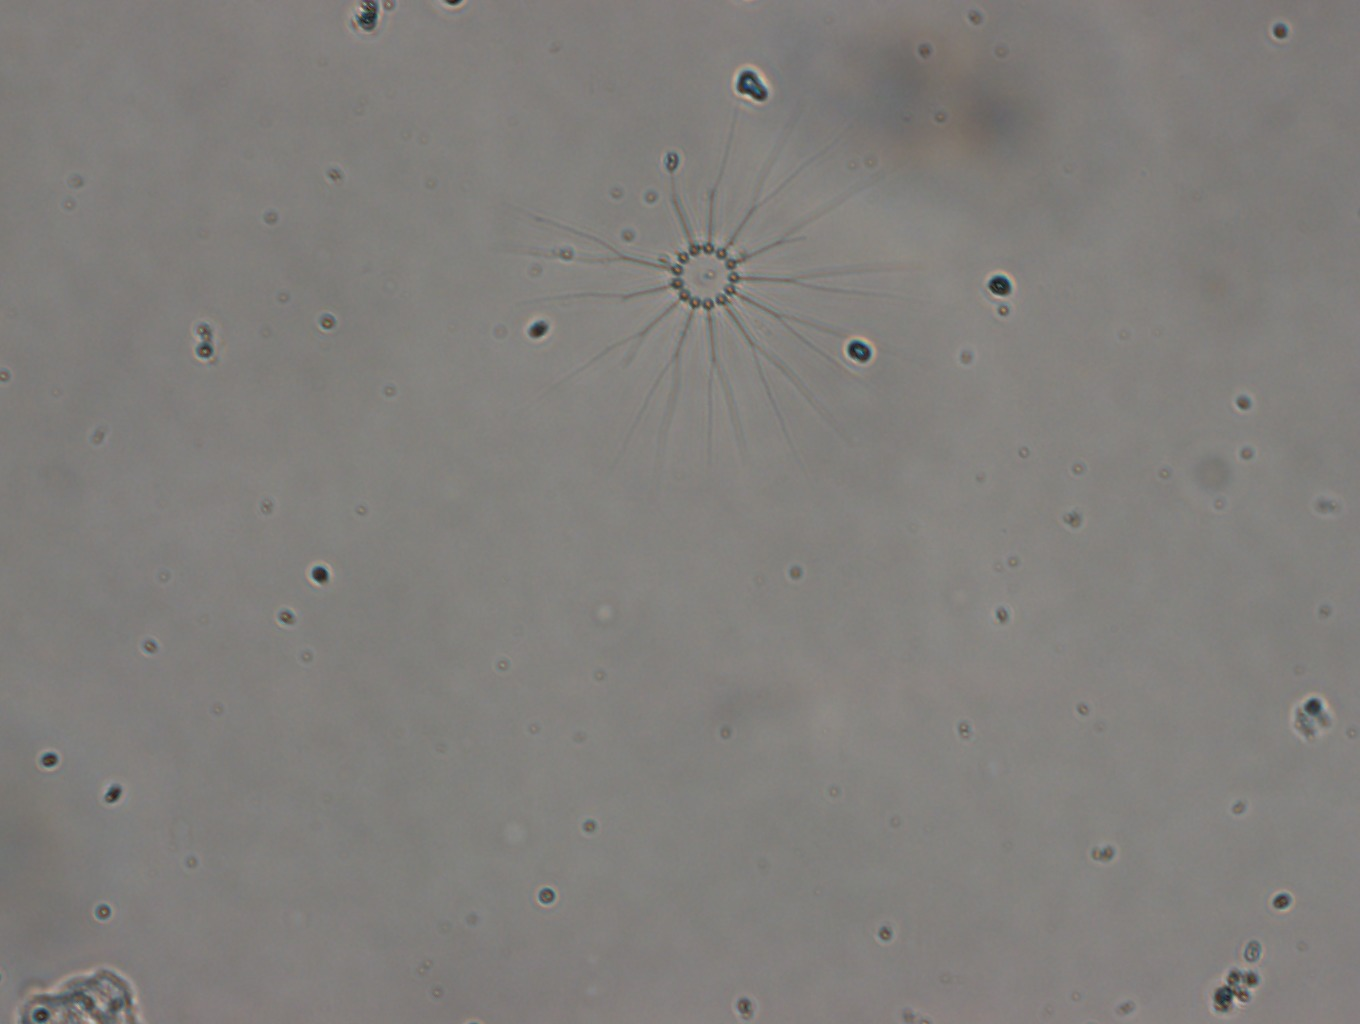bacteriastrum: (495, 90, 935, 501)
